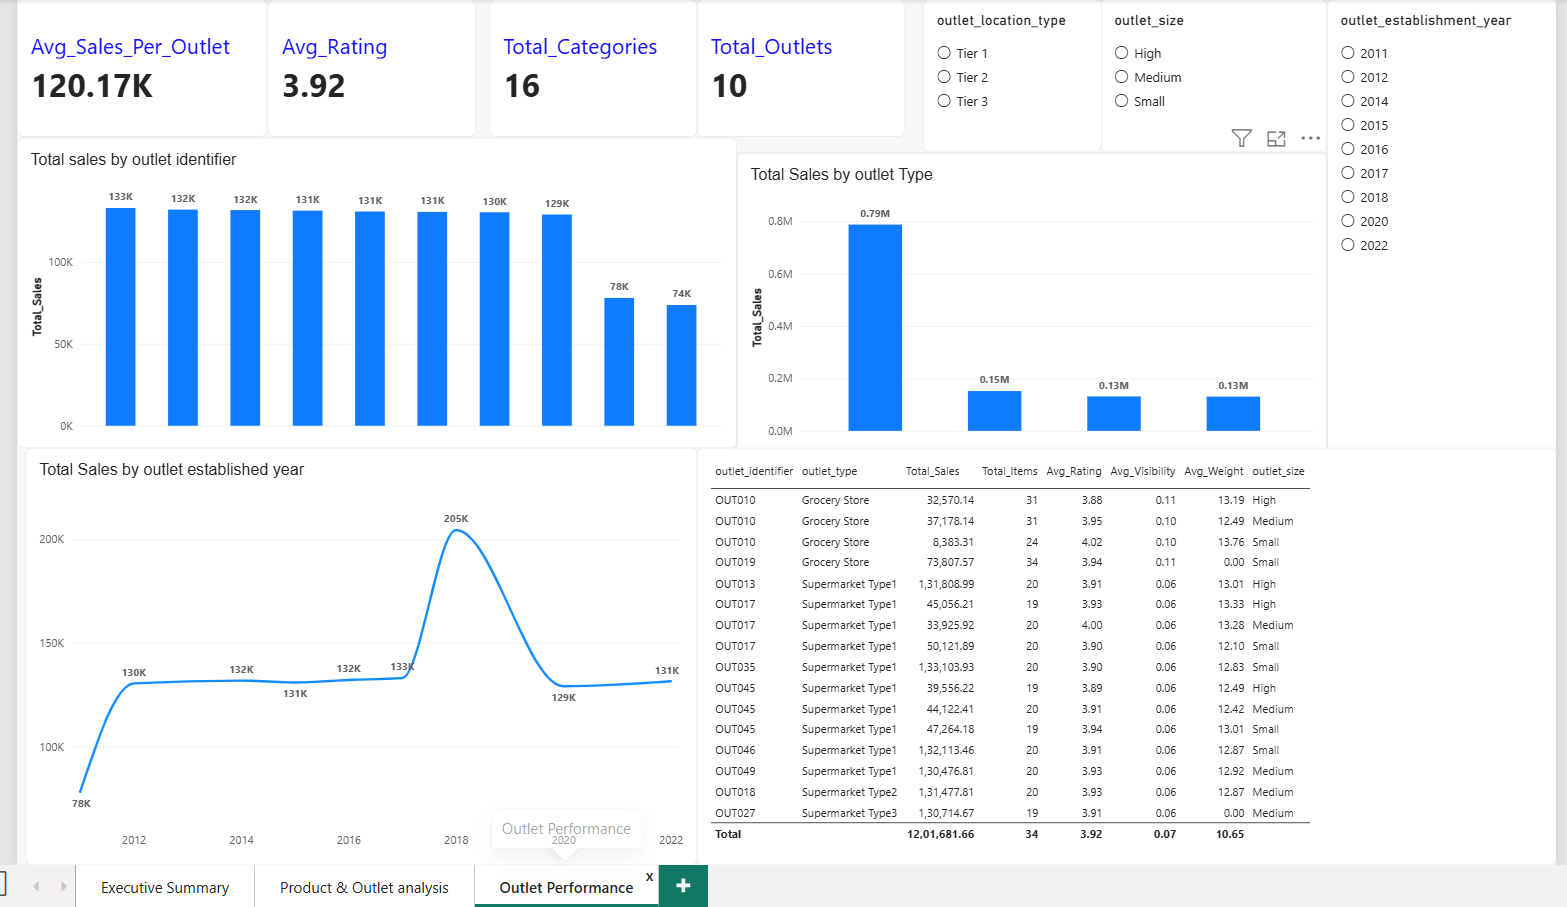

The page's visual inventory and layout, read from the dashboard file:
{"tool":"powerbi","page":{"name":"Outlet Performance","canvas":[1920,1080],"ordinal":2},"visuals":[{"type":"cardVisual","fields":{"Data":["BlinkIT_Grocery_Data_Raw.Avg_Sales_Per_Outlet"]},"box":[0,0,312.9,172.9],"z":0},{"type":"cardVisual","fields":{"Data":["BlinkIT_Grocery_Data_Raw.Avg_Rating"]},"box":[312.9,0,259.3,172.9],"z":1000},{"type":"cardVisual","fields":{"Data":["BlinkIT_Grocery_Data_Raw.Total_Categories"]},"box":[588.7,0,259.3,172.9],"z":2000},{"type":"cardVisual","fields":{"Data":["BlinkIT_Grocery_Data_Raw.Total_Outlets"]},"box":[848,0,259.3,172.9],"z":3000},{"type":"listSlicer","fields":{"Values":["BlinkIT_Grocery_Data_Raw.outlet_establishment_year"]},"box":[1634.3,0,286.1,566],"z":4000},{"type":"listSlicer","fields":{"Values":["BlinkIT_Grocery_Data_Raw.outlet_size"]},"box":[1352.3,0,282,191.4],"z":5000},{"type":"listSlicer","fields":{"Values":["BlinkIT_Grocery_Data_Raw.outlet_location_type"]},"box":[1130,0,222.3,191.4],"z":6000},{"type":"columnChart","title":"Total sales by outlet identifier","fields":{"Category":["BlinkIT_Grocery_Data_Raw.outlet_identifier"],"Y":["BlinkIT_Grocery_Data_Raw.Total_Sales"]},"box":[0,172.9,897.4,387],"z":8000},{"type":"columnChart","title":"Total Sales by outlet Type","fields":{"Category":["BlinkIT_Grocery_Data_Raw.outlet_type"],"Y":["BlinkIT_Grocery_Data_Raw.Total_Sales"]},"box":[897.4,191.4,736.9,374.6],"z":9000},{"type":"lineChart","title":"Total Sales by outlet established year","fields":{"Category":["BlinkIT_Grocery_Data_Raw.outlet_establishment_year"],"Y":["BlinkIT_Grocery_Data_Raw.Total_Sales"]},"box":[10.3,559.9,837.7,520.8],"z":11000},{"type":"tableEx","title":"Total Sales by outlet Type","fields":{"Values":["BlinkIT_Grocery_Data_Raw.outlet_identifier","BlinkIT_Grocery_Data_Raw.outlet_type","BlinkIT_Grocery_Data_Raw.Total_Sales","BlinkIT_Grocery_Data_Raw.Total_Items","BlinkIT_Grocery_Data_Raw.Avg_Rating","BlinkIT_Grocery_Data_Raw.Avg_Visibility","BlinkIT_Grocery_Data_Raw.Avg_Weight","BlinkIT_Grocery_Data_Raw.outlet_size"]},"box":[848,559.9,1072.4,520.8],"z":11001}]}

Visuals, with their boxes on the page's 1920x1080 design canvas (x1, y1, x2, y2). These are canvas units, not pixel positions in the 1567x907 screenshot, which may show the page scaled, cropped or inside an application window:
cardVisual - BlinkIT_Grocery_Data_Raw.Avg_Sales_Per_Outlet: pyautogui.locateOnScreen(0, 0, 313, 173)
cardVisual - BlinkIT_Grocery_Data_Raw.Avg_Rating: pyautogui.locateOnScreen(313, 0, 572, 173)
cardVisual - BlinkIT_Grocery_Data_Raw.Total_Categories: pyautogui.locateOnScreen(589, 0, 848, 173)
cardVisual - BlinkIT_Grocery_Data_Raw.Total_Outlets: pyautogui.locateOnScreen(848, 0, 1107, 173)
listSlicer - BlinkIT_Grocery_Data_Raw.outlet_establishment_year: pyautogui.locateOnScreen(1634, 0, 1920, 566)
listSlicer - BlinkIT_Grocery_Data_Raw.outlet_size: pyautogui.locateOnScreen(1352, 0, 1634, 191)
listSlicer - BlinkIT_Grocery_Data_Raw.outlet_location_type: pyautogui.locateOnScreen(1130, 0, 1352, 191)
"Total sales by outlet identifier" columnChart: pyautogui.locateOnScreen(0, 173, 897, 560)
"Total Sales by outlet Type" columnChart: pyautogui.locateOnScreen(897, 191, 1634, 566)
"Total Sales by outlet established year" lineChart: pyautogui.locateOnScreen(10, 560, 848, 1081)
"Total Sales by outlet Type" tableEx: pyautogui.locateOnScreen(848, 560, 1920, 1081)
